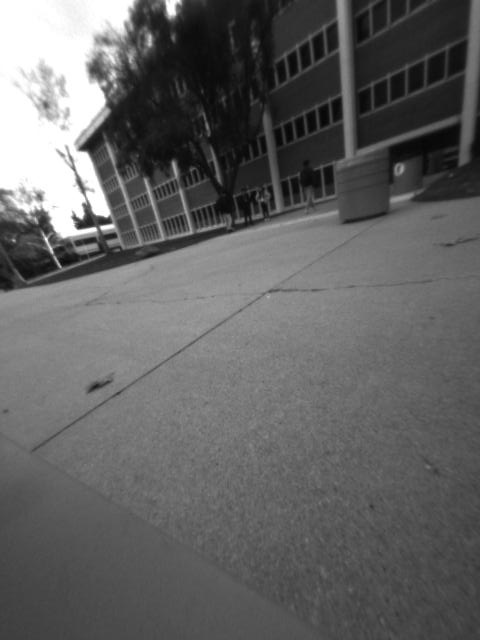trashcan: (335, 143, 389, 223), (392, 150, 428, 196)
